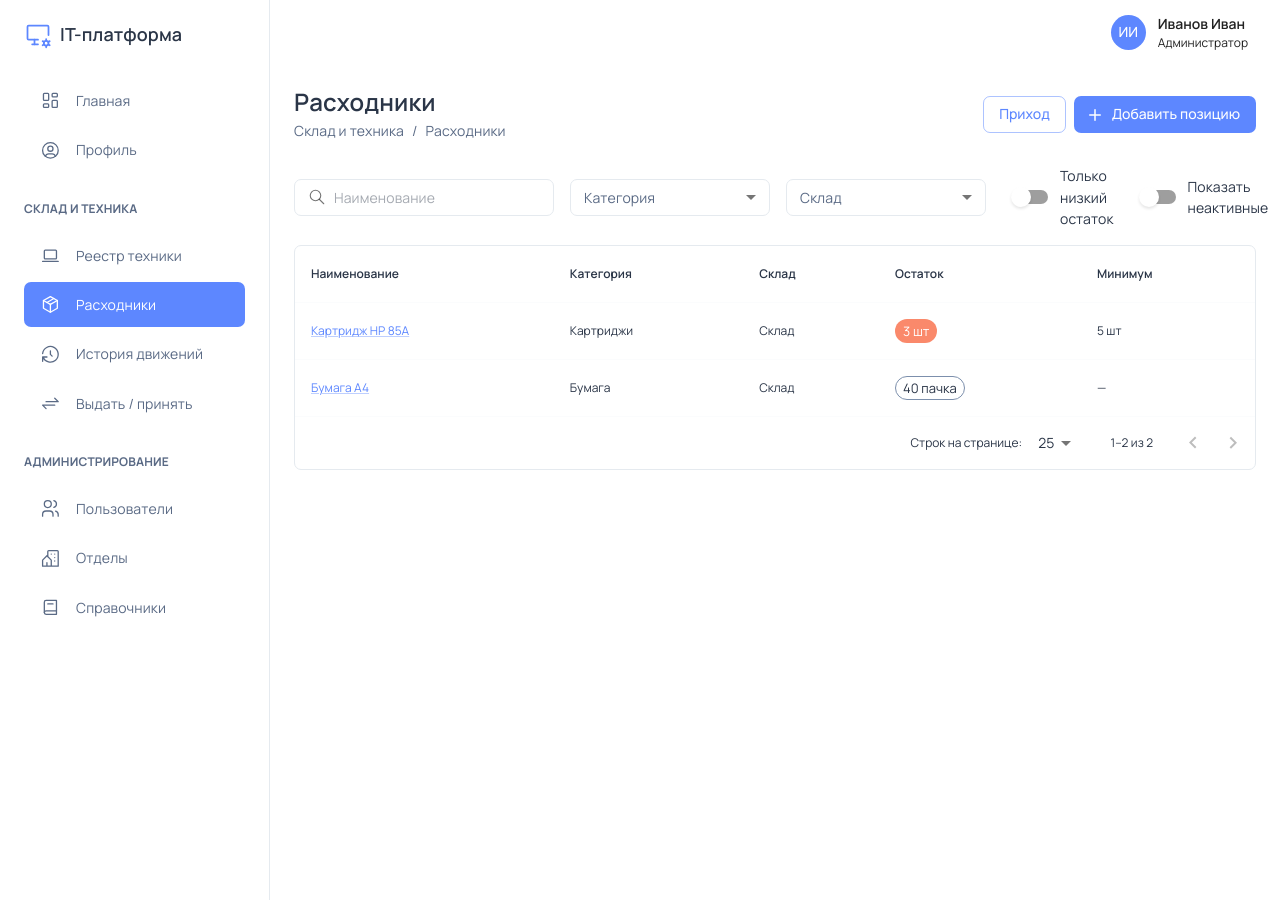
Scenario: добавление: наименование занято — ошибка у поля
Click the button "Добавить позицию" at (1165, 115), box [1074,96,1256,133]
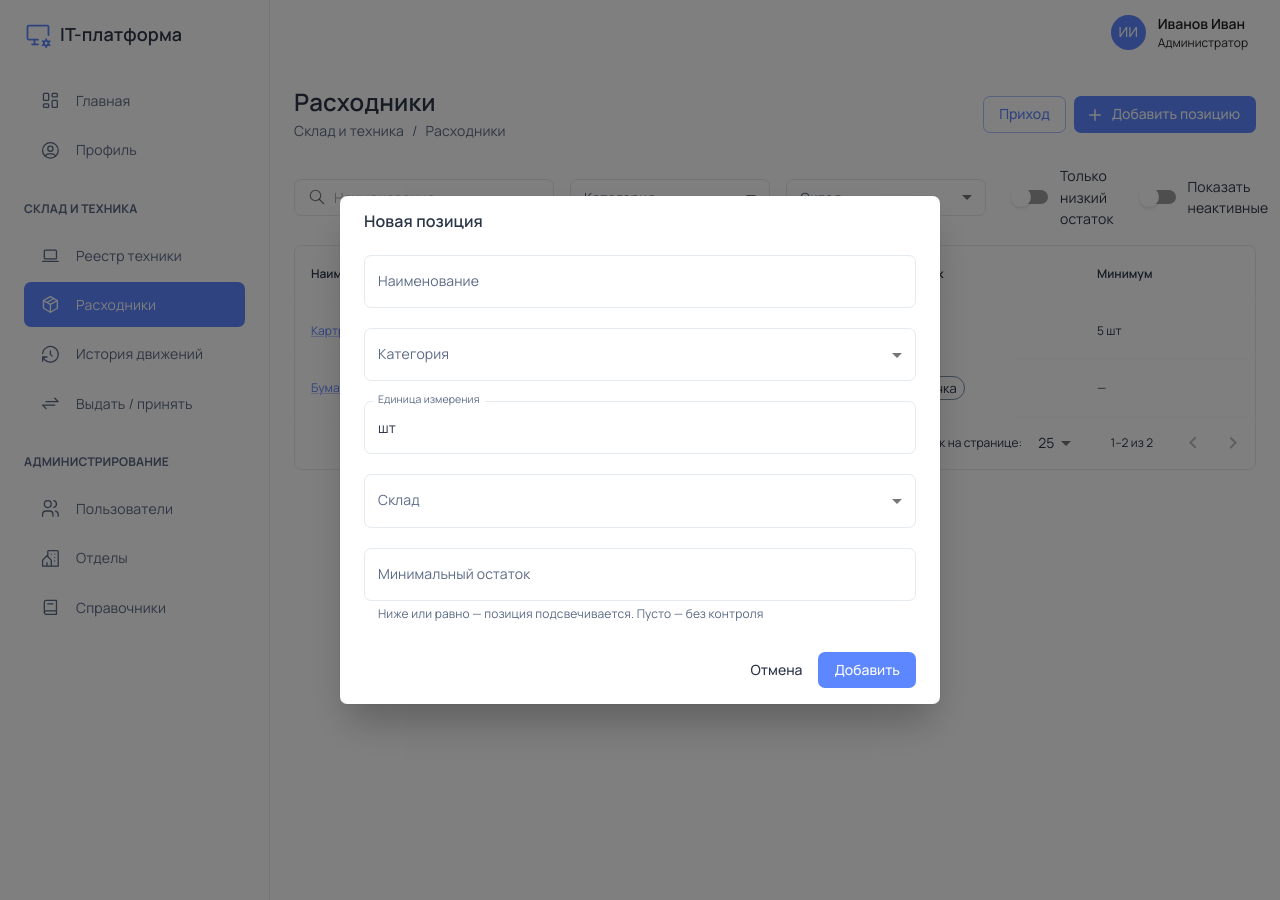
Type "Картридж HP 85A" into the field labelled "Наименование" at (640, 282), box [364,255,916,308]
Click the 1st dropdown named "Категория" at (640, 355), box [364,328,916,381]
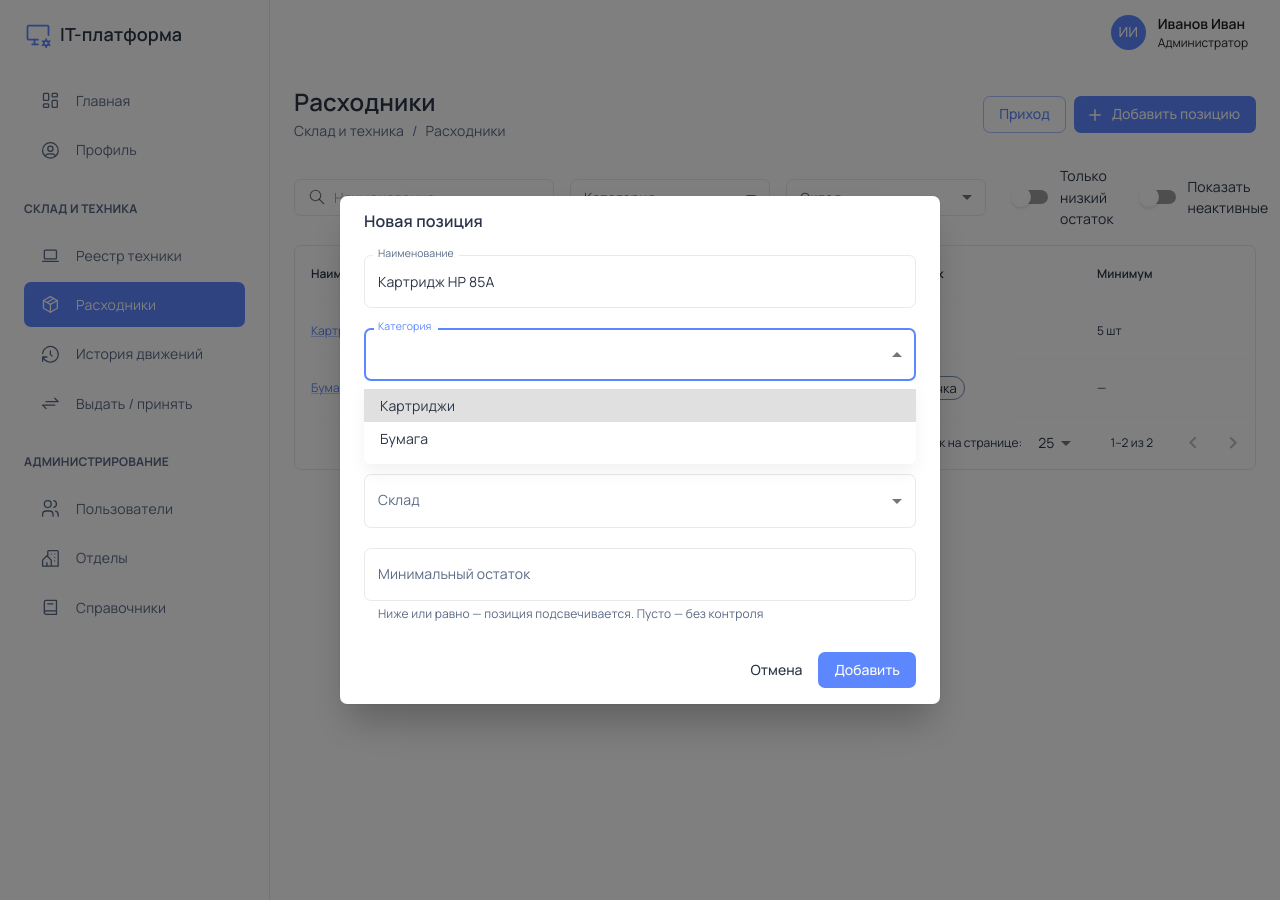
Click the option "Картриджи" at (418, 406), box [364,389,916,422]
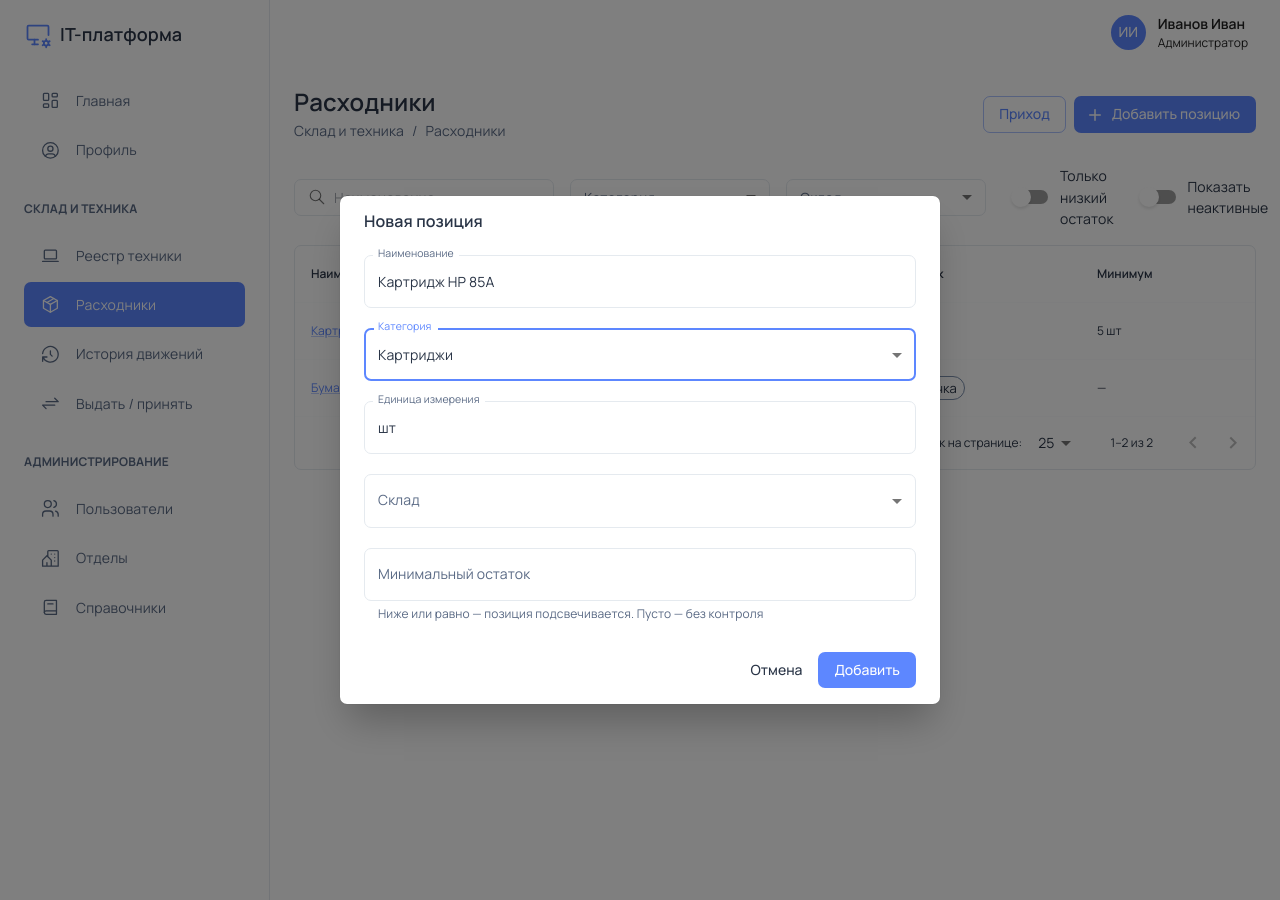
Click the dropdown named "Склад" at (640, 501), box [364,474,916,528]
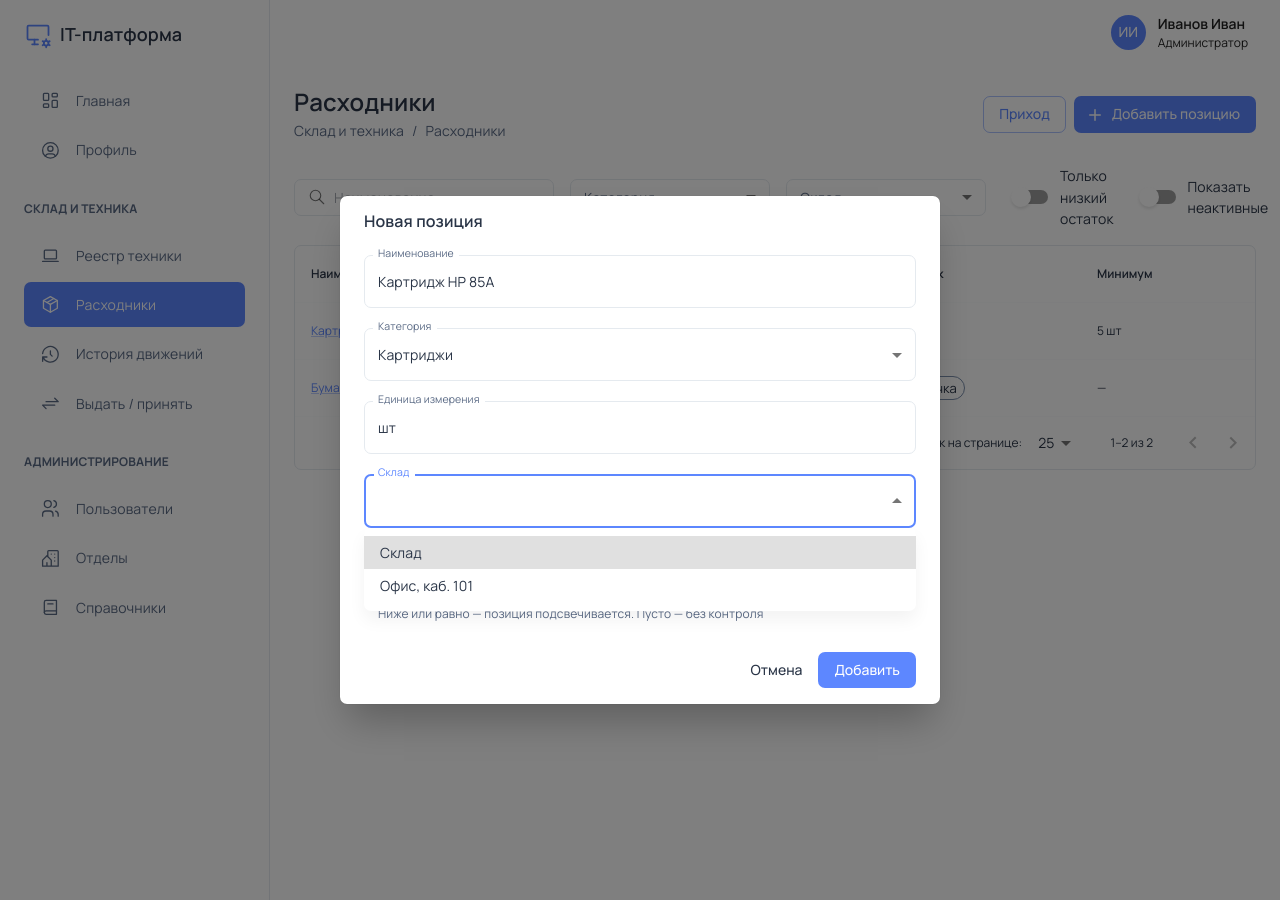
Click the option "Склад" at (401, 552), box [364,536,916,569]
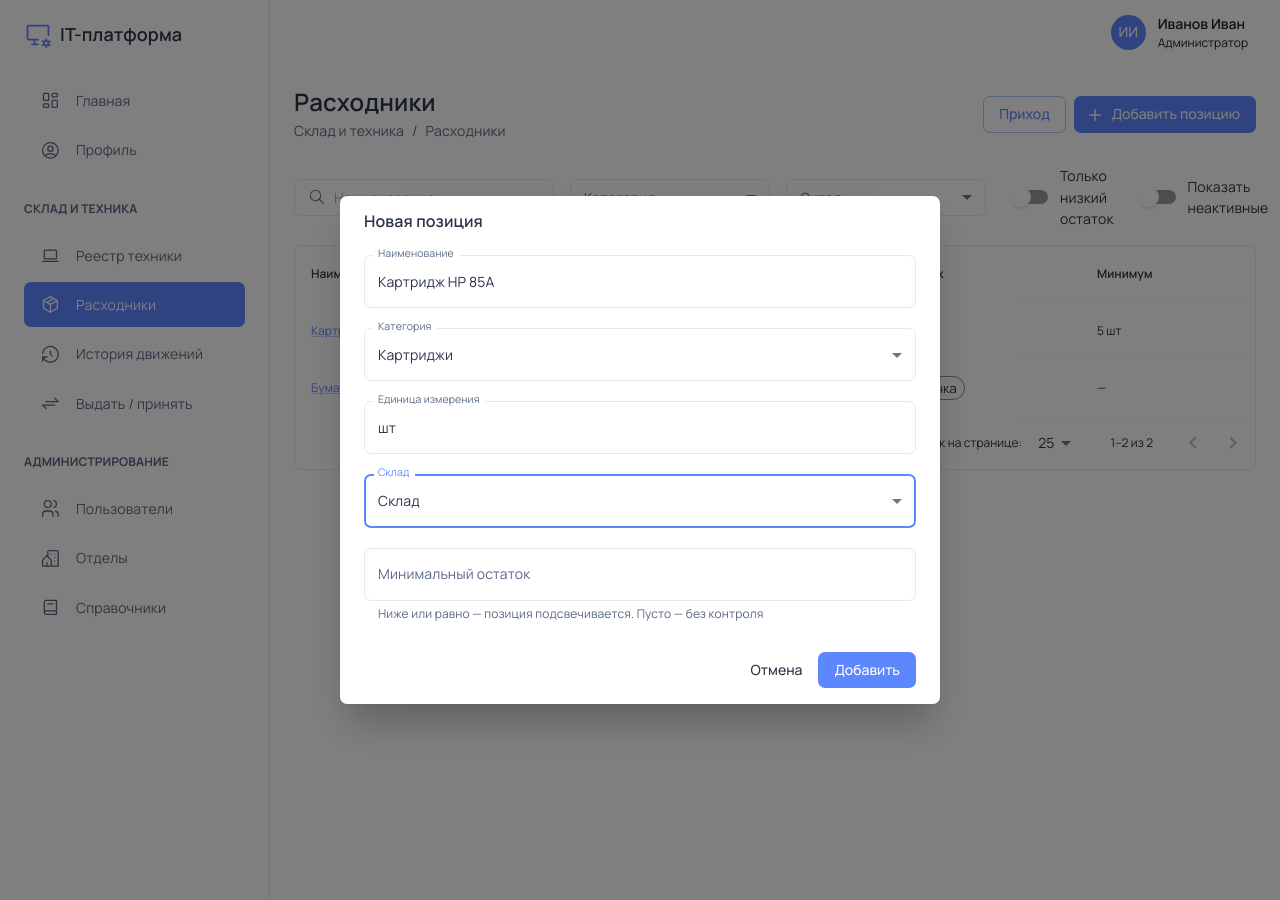
Click the button "Добавить" at (867, 670), box [818,652,916,688]
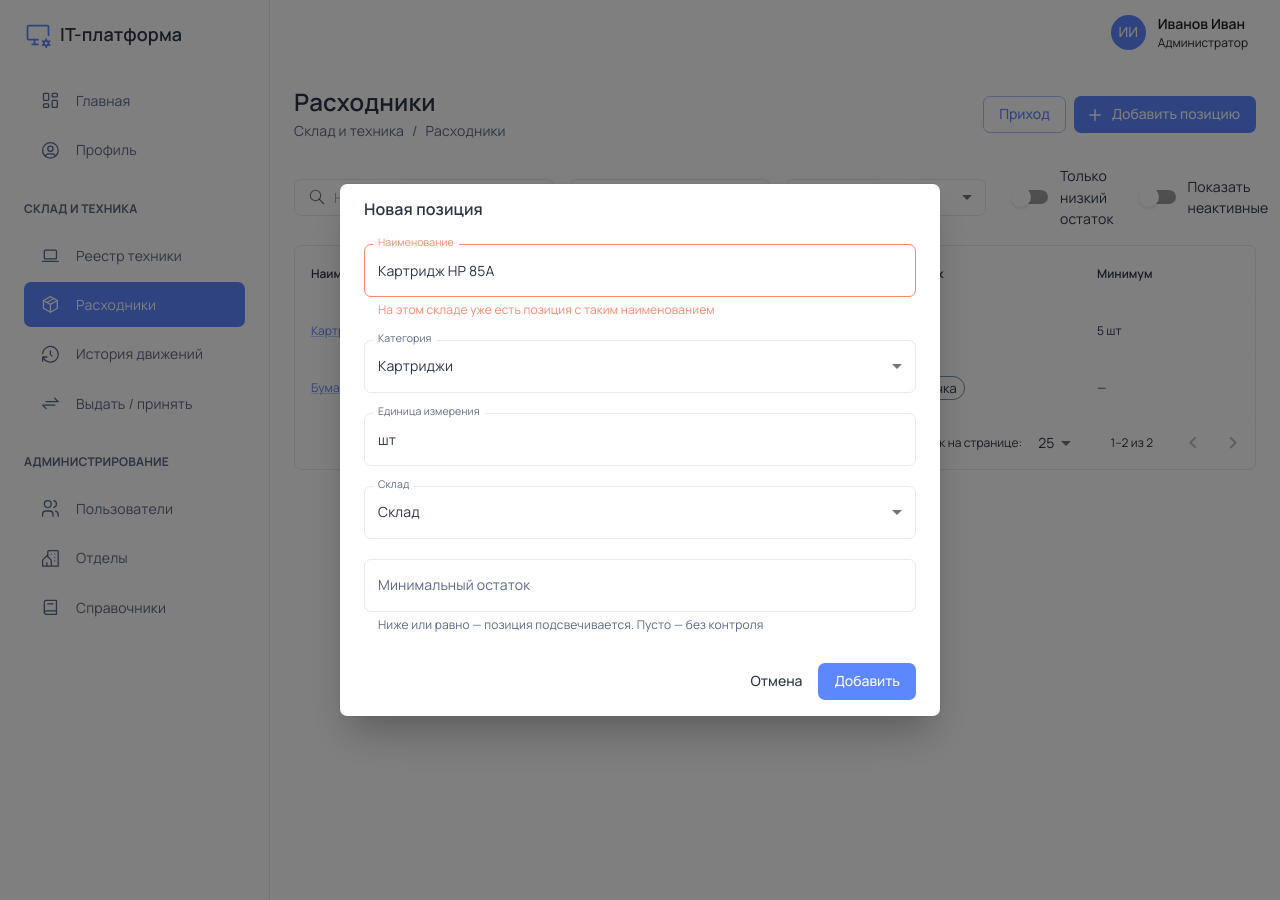
Expected: the text "На этом складе уже есть позиция с таким наименованием" is shown, [378,301,715,318]
